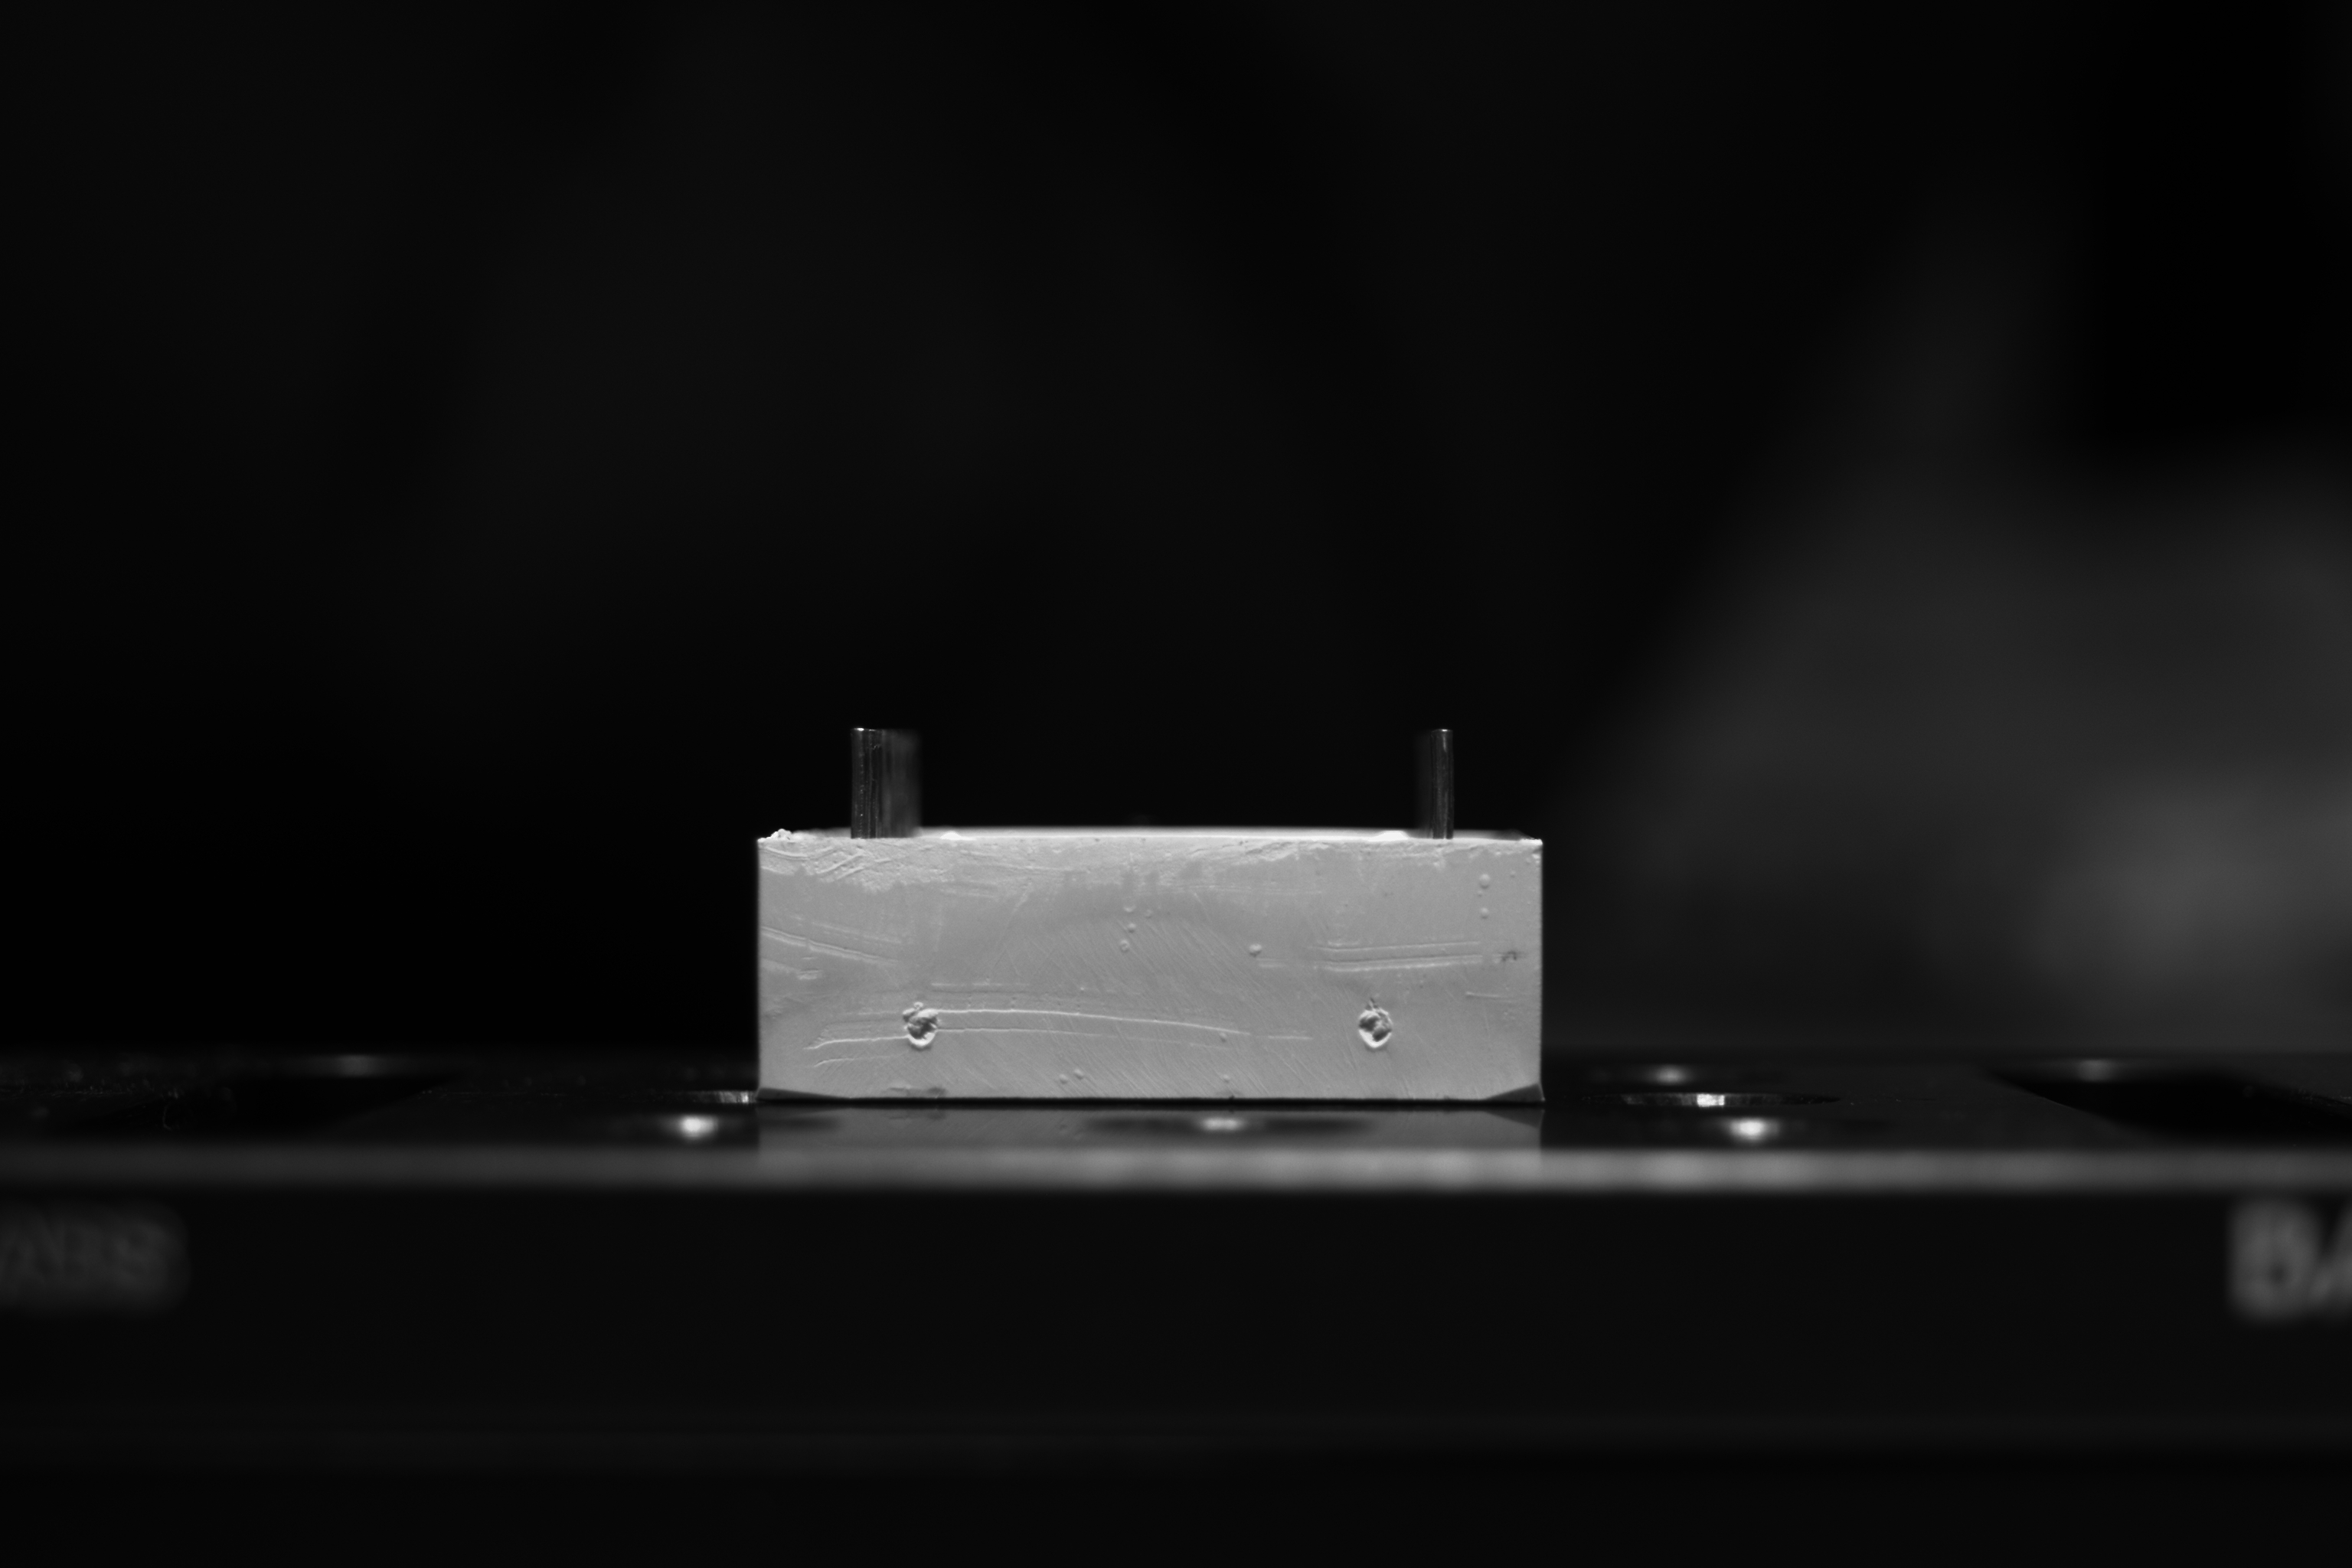glue: (1123, 896, 1137, 913), (1249, 941, 1263, 955), (1479, 873, 1491, 889), (1118, 938, 1130, 952), (1073, 1067, 1083, 1080), (1482, 906, 1491, 919), (1127, 924, 1137, 933), (1144, 908, 1153, 919), (1059, 1074, 1069, 1083), (1223, 1074, 1230, 1081)
injection_hole: (1354, 1003, 1398, 1053), (903, 1001, 940, 1052)
